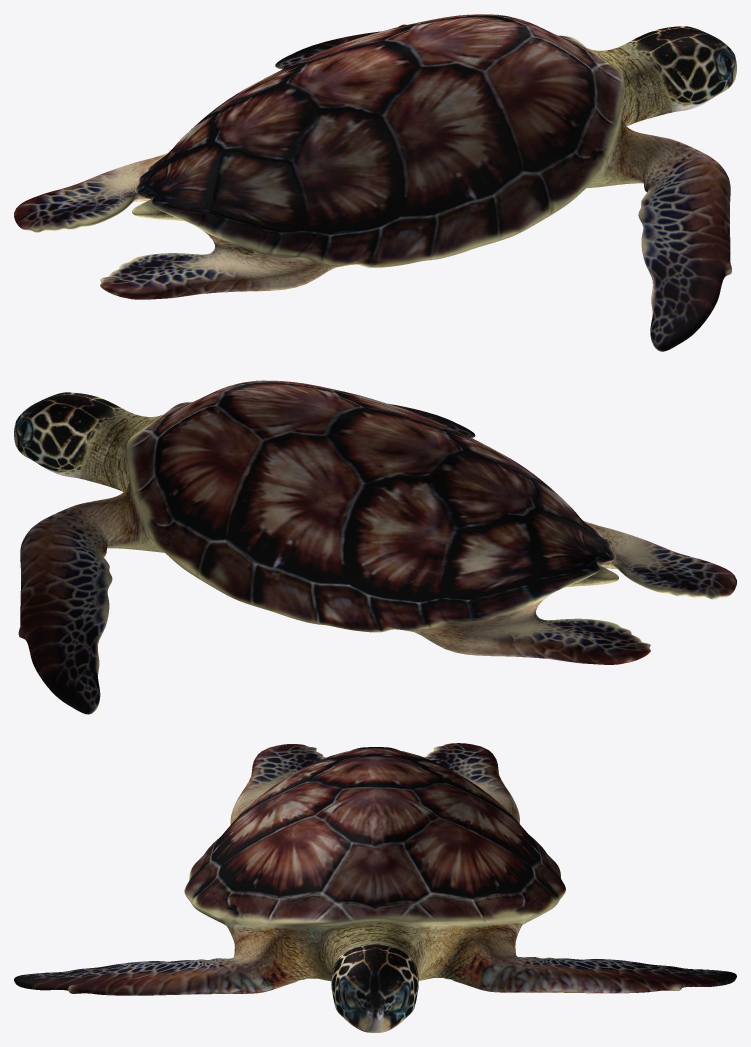
File: TORTUGA.obj
3 renders of one model, top to bottom at view 1: azimuth 30°, elevation 25°; view 2: azimuth 150°, elevation 25°; view 3: azimuth 270°, elevation 25°, orthographic. The views are drawn at different scales.
Parts seen in each view (by area): view 1: 10042_Sea_Turtle_V1; view 2: 10042_Sea_Turtle_V1; view 3: 10042_Sea_Turtle_V1.
Part boxes in pixels (<box>): 10042_Sea_Turtle_V1: <box>14,14,736,351</box>; 10042_Sea_Turtle_V1: <box>14,380,736,714</box>; 10042_Sea_Turtle_V1: <box>14,743,736,1032</box>.
Size of the model in its own units: 102 by 26.04 by 102.
Materials: 1 (1 with a texture image).
